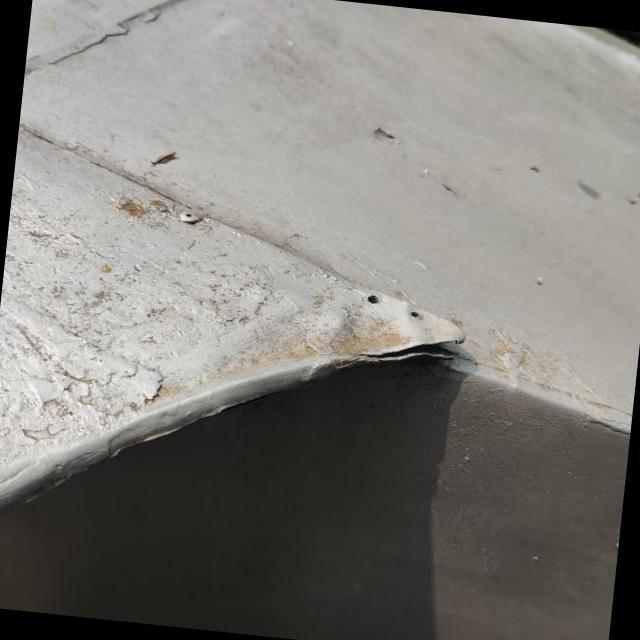Rupture: (333, 311, 478, 398)
